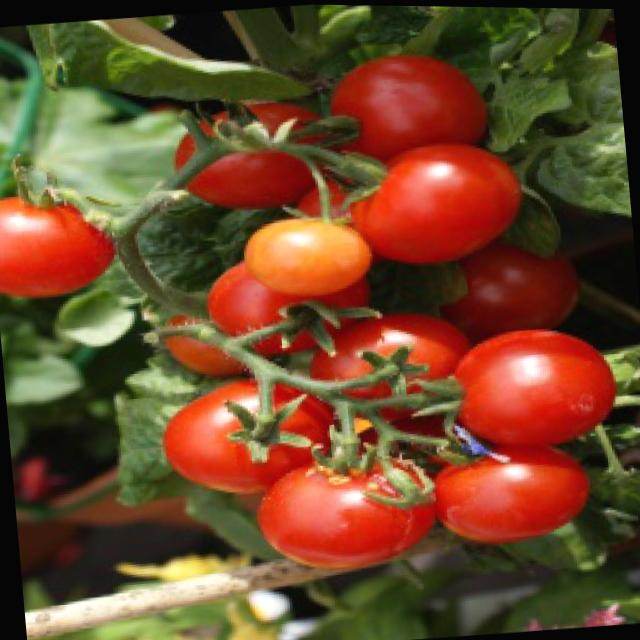tomato: (345, 134, 530, 276), (162, 371, 342, 505), (252, 454, 443, 579), (448, 321, 624, 453), (432, 440, 594, 548), (0, 188, 119, 304)
